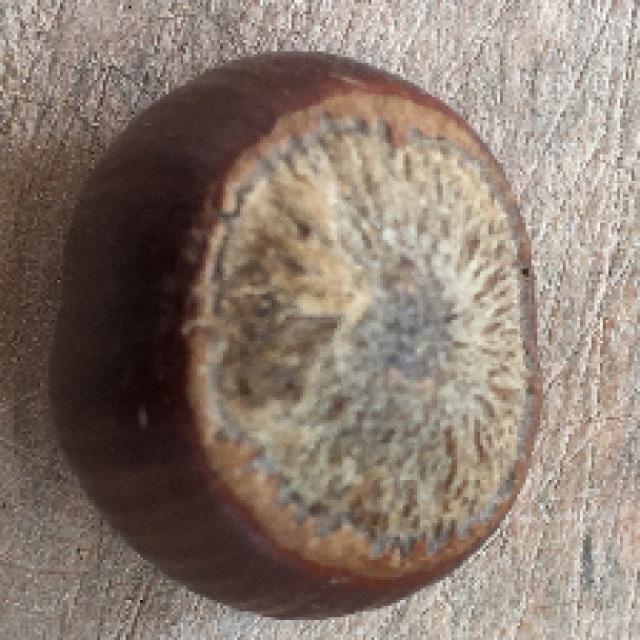qualityHazelnut: (59, 44, 546, 617)
